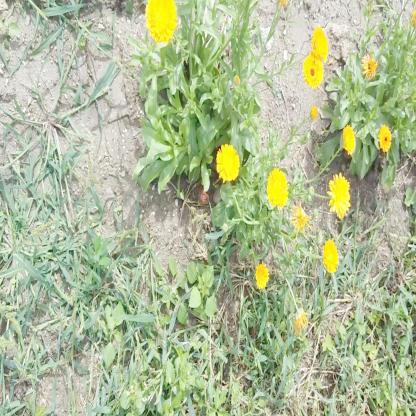marigold: (144, 0, 179, 46), (215, 142, 239, 182), (267, 166, 289, 208), (330, 176, 352, 216), (310, 24, 329, 64), (305, 54, 325, 86), (324, 240, 339, 275), (252, 261, 269, 290), (343, 123, 357, 152), (378, 122, 393, 149)
